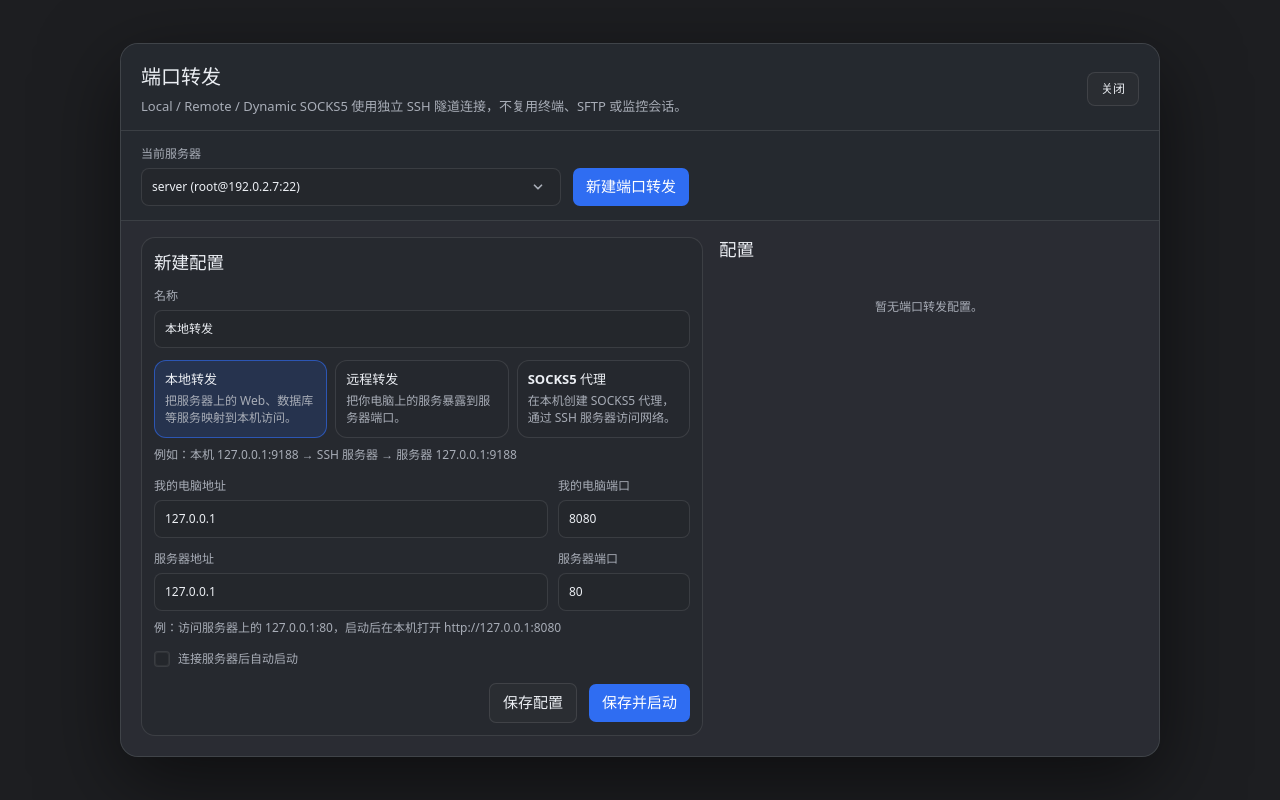
Test case: TunnelManagerDialog › lays out local and server endpoint address and port fields in two compact rows
expect the element with test id "tunnel-endpoint-row" shows "我的电脑地址": met, box [154,477,226,494]
expect the element with test id "tunnel-endpoint-row" shows "我的电脑端口": met, box [558,477,630,494]
What coordinates should you click on to do the following:
click the button with test id "tunnel-type-remote"
I would click on:
 (422, 399)
Its box is [335,360,509,438].
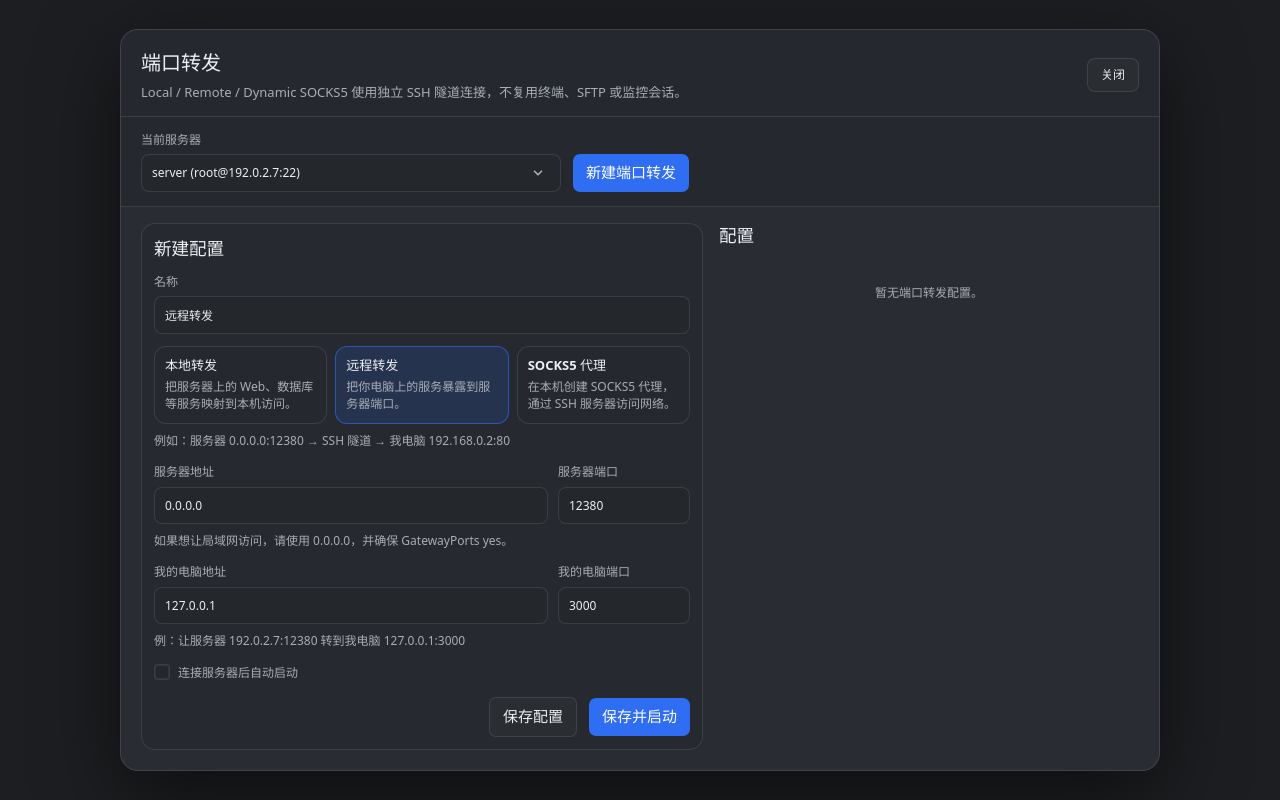
expect the element with test id "tunnel-endpoint-row" shows "服务器地址": met, box [154,463,214,480]
expect the element with test id "tunnel-endpoint-row" shows "服务器端口": met, box [558,463,618,480]
expect the element with test id "tunnel-endpoint-row" shows "我的电脑地址": met, box [154,564,226,580]
